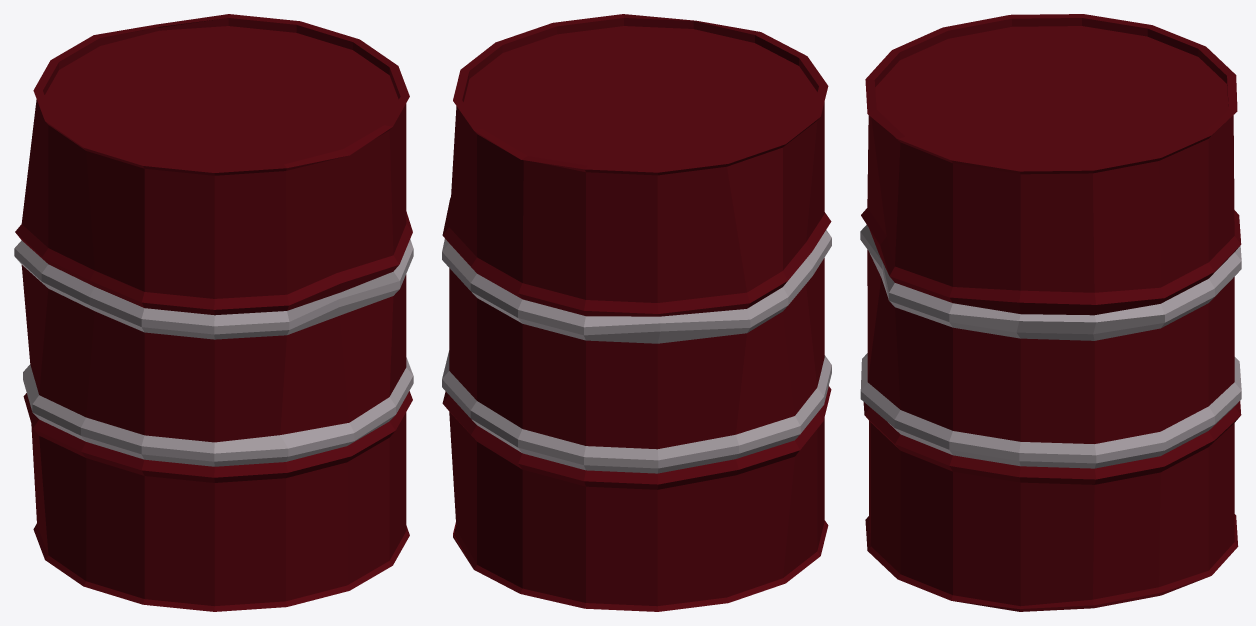
The model's file is ExplosiveBarrelBare.fbx.
The picture shows the model from 3 angles, left to right: view 1: azimuth 30°, elevation 25°; view 2: azimuth 150°, elevation 25°; view 3: azimuth 270°, elevation 25°; orthographic projection.
Visible parts, largest first — view 1: Cylinder; view 2: Cylinder; view 3: Cylinder.
Boxes of the visible parts, x1,y1,x2,y2 form: Cylinder: (14, 14, 413, 611); Cylinder: (442, 14, 831, 611); Cylinder: (860, 14, 1241, 611).
Bounding box in the file's own units: 167 × 204 × 160.
